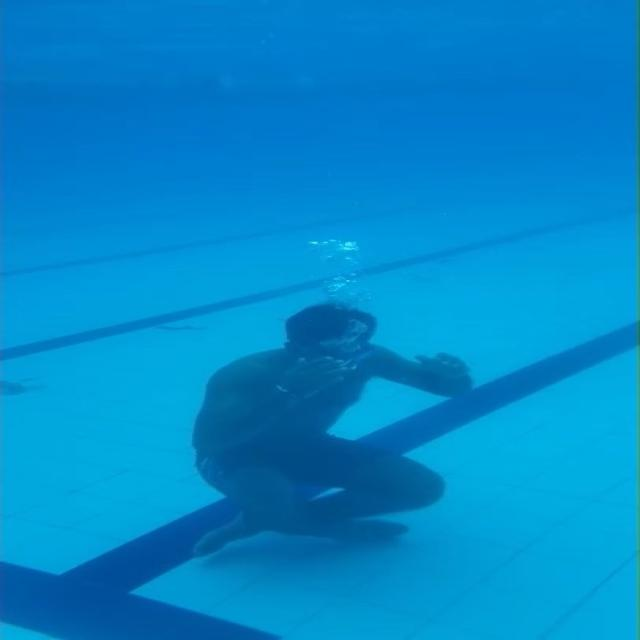Drowning: (194, 302, 471, 552)
